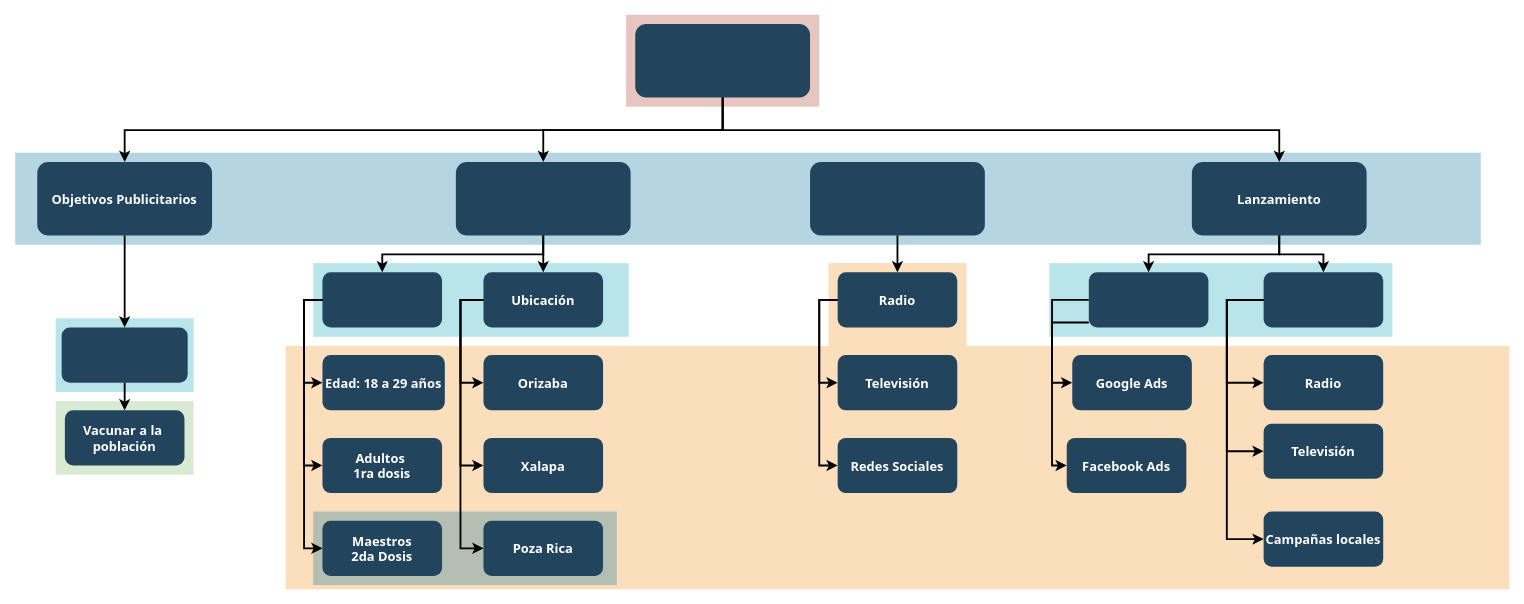
Some shapes in this 1524 by 604 pixel diagram are drawn without their labels. Each missing label, with the box of its shape:
Demográfico: (322, 272, 442, 327)
Informar sobre vacunas disponibles: (61, 327, 187, 382)
Medios Publicitarios: (810, 161, 984, 235)
Planeación de Campaña de Vacunación: (635, 23, 810, 97)
Publicidad en Medios Locales: (1263, 272, 1383, 327)
Publicidad en Redes Sociales: (1088, 272, 1208, 327)
Publico Objetivo: (455, 161, 630, 235)
